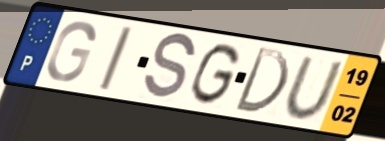D: (231, 45, 291, 117)
G: (188, 41, 242, 108), (44, 20, 97, 84)
I: (96, 24, 136, 93)
S: (140, 31, 198, 103)
U: (283, 55, 346, 123)
